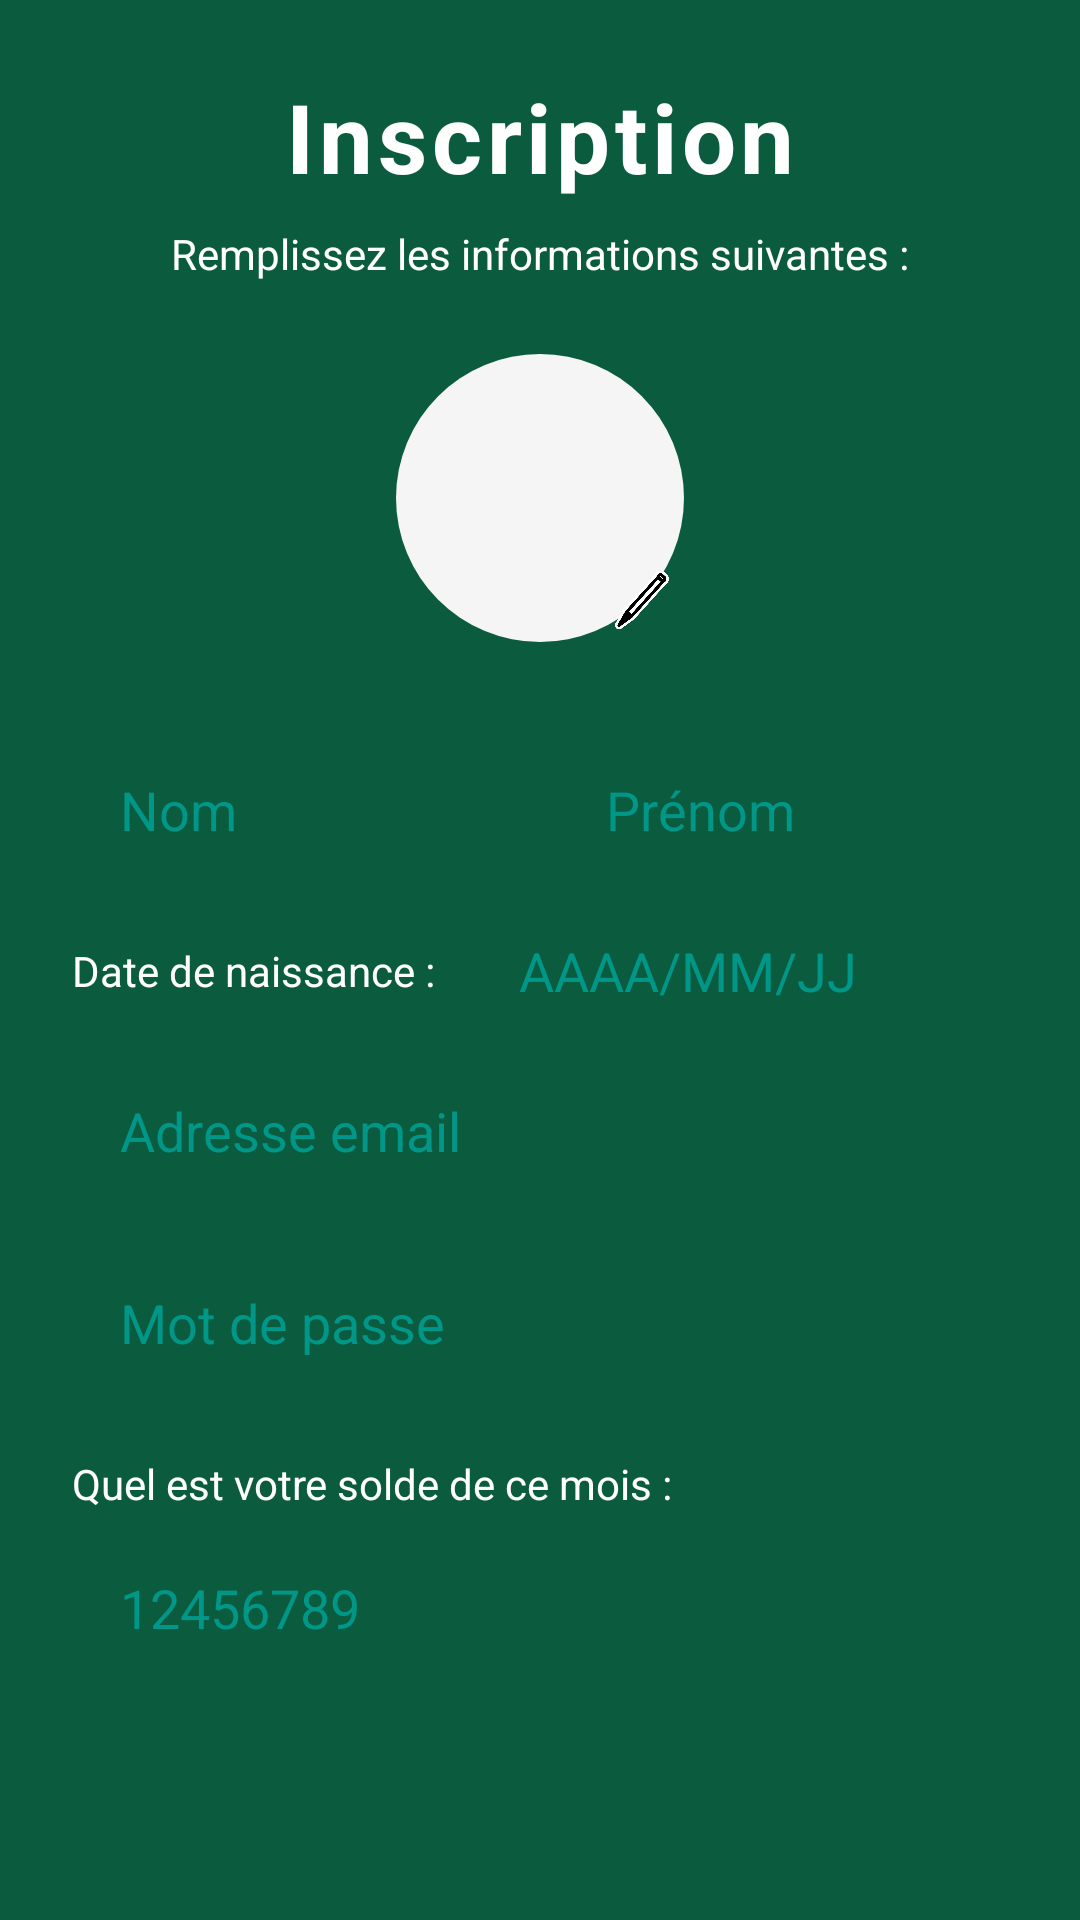

Named icons in this screenshot (1080w x 1920h) and their centers, point (x, y):
edit: point (642, 600)
